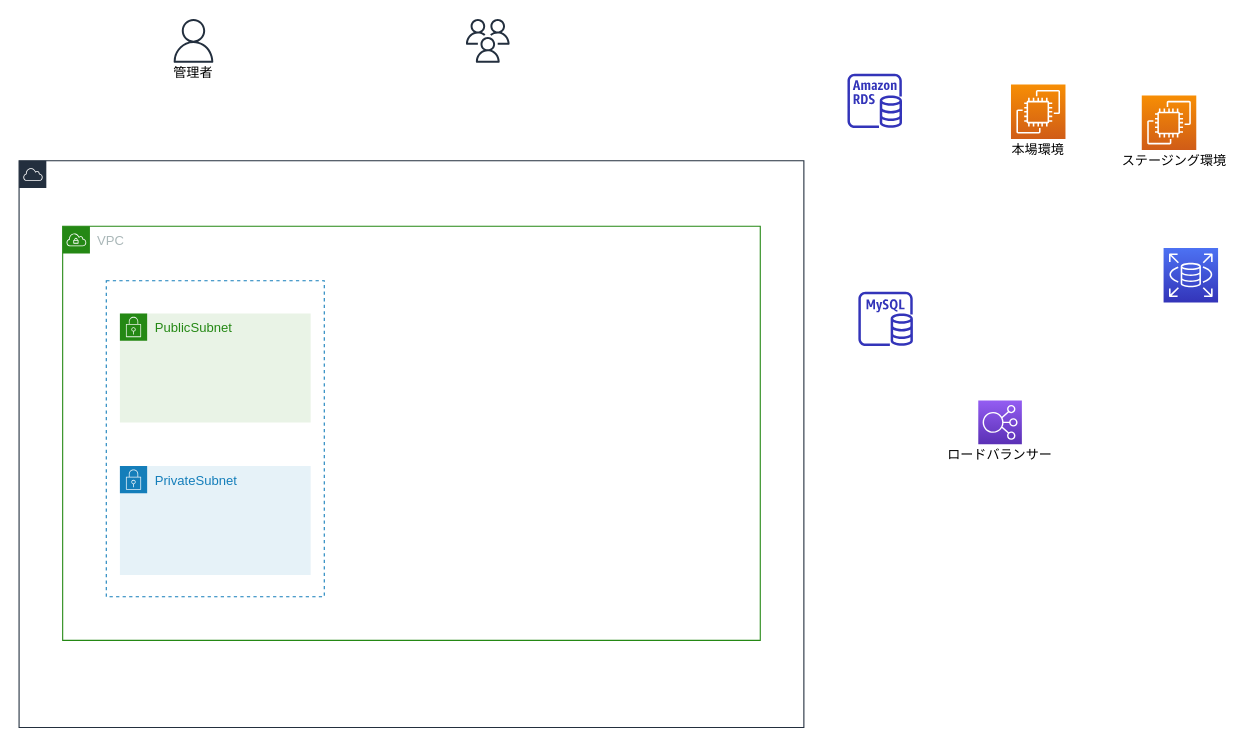
Some shapes in this 1248 by 747 pixel diagram are drawn without their labels. The box of each missing label's shape, as (x1, y1, x2, y2) in pixels:
Availability Zone: (105, 280, 324, 597)
AWS Cloud: (18, 160, 804, 728)
